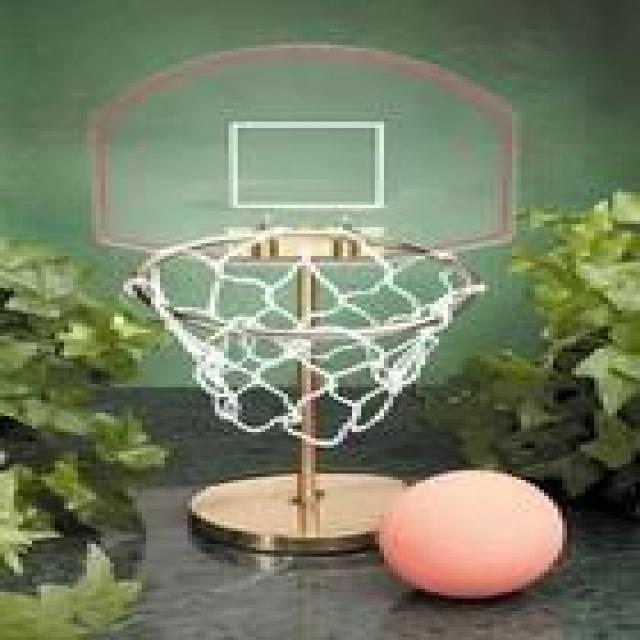hoop: (109, 205, 510, 456)
